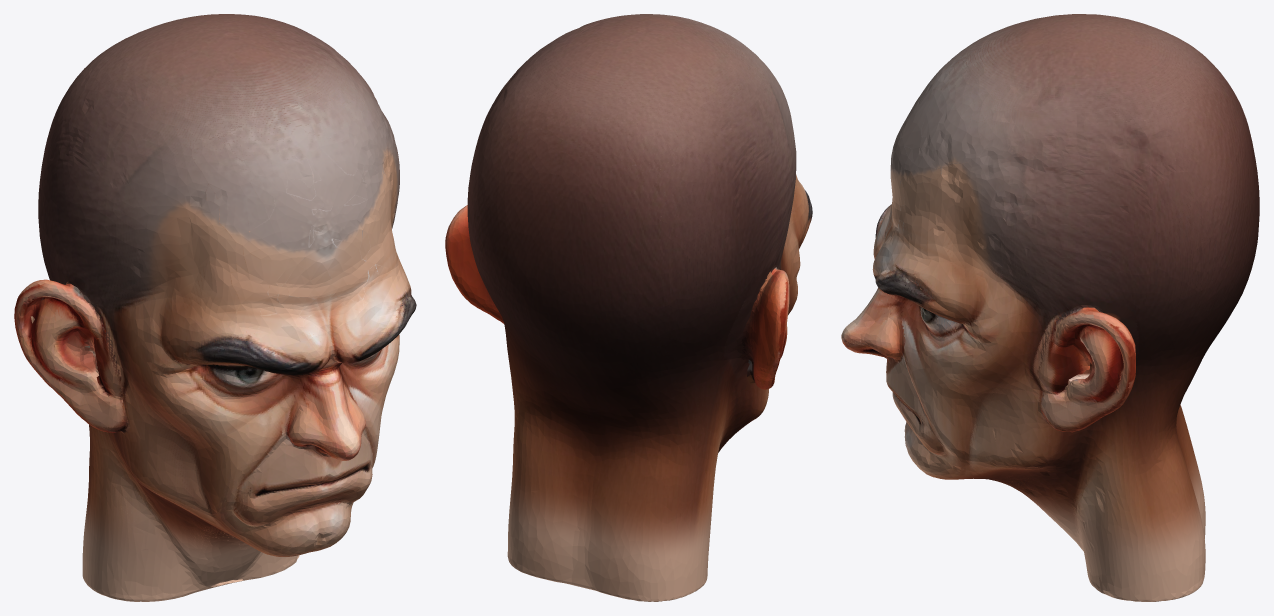
Rendered from side_akuja_repaired_atlas.glb.
3 views of the same model, side by side, from view 1: azimuth 30°, elevation 25°; view 2: azimuth 150°, elevation 25°; view 3: azimuth 270°, elevation 25° (orthographic). The views are drawn at different scales.
Visible parts, largest first — view 1: temp_mesh.ply; view 2: temp_mesh.ply; view 3: temp_mesh.ply.
Boxes of the visible parts, x1,y1,x2,y2 form: temp_mesh.ply: (14,14,416,601); temp_mesh.ply: (445,14,812,601); temp_mesh.ply: (841,14,1259,601).
Size of the model in its own units: 0.978 by 1.41 by 1.01.
1 material, 1 textured.
